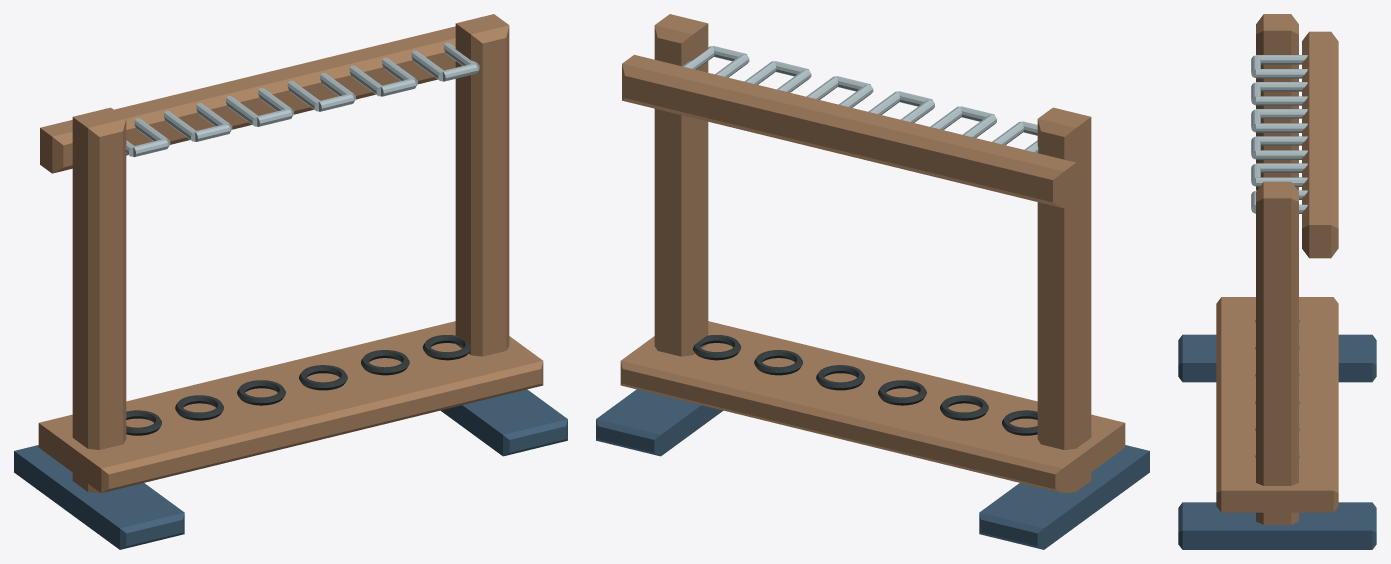
The model's file is harbor-and-tackle-rod-rack-0d8f735e__19578.glb.
3 views of the same model, side by side, from view 1: azimuth 30°, elevation 25°; view 2: azimuth 150°, elevation 25°; view 3: azimuth 270°, elevation 25° (orthographic). The views are drawn at different scales.
Parts seen in each view (by area): view 1: cedar, navy, metal, rubber; view 2: cedar, navy, metal, rubber; view 3: cedar, navy, metal.
Part boxes in pixels (bbox=[...]): cedar: bbox=[38, 14, 543, 493]; navy: bbox=[14, 389, 567, 549]; metal: bbox=[125, 42, 479, 157]; rubber: bbox=[126, 335, 471, 435]; cedar: bbox=[620, 14, 1125, 493]; navy: bbox=[596, 389, 1149, 549]; metal: bbox=[682, 46, 1038, 152]; rubber: bbox=[692, 335, 1037, 435]; cedar: bbox=[1216, 14, 1338, 524]; navy: bbox=[1178, 334, 1376, 549]; metal: bbox=[1251, 55, 1307, 213].
Bounding box in the file's own units: 1.52 × 1.25 × 0.65.
